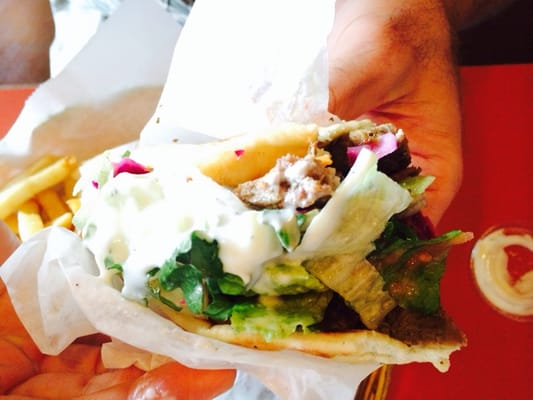soup: (2, 112, 477, 371)
